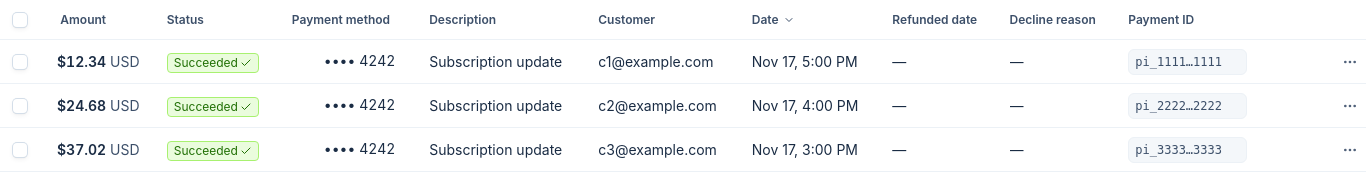
Test: PaymentsTable › header checkbox selects all rows
What coordinates should you click on to do the following:
click the checkbox named "Select all payments"
I would click on:
 (20, 20)
Its box is [13,13,27,27].
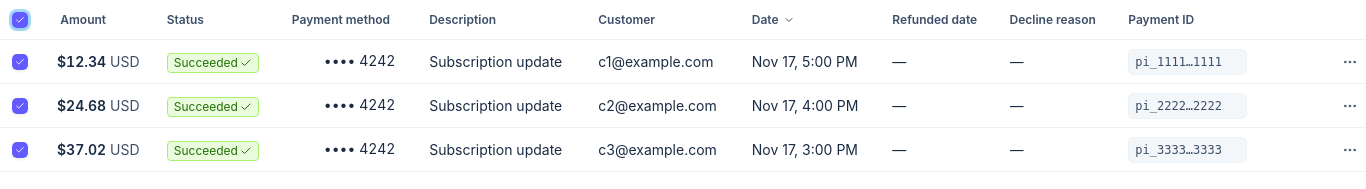
Result: the checkbox named "Select all payments" is checked at [13,13,27,27]
Result: the checkbox named "Select payment pi_111111111111111111111111" is checked at [13,55,27,69]
Result: the checkbox named "Select payment pi_222222222222222222222222" is checked at [13,99,27,113]
